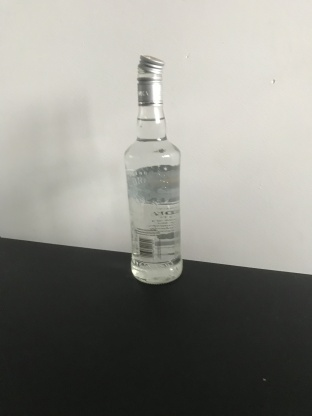nakretka: (135, 52, 166, 107)
